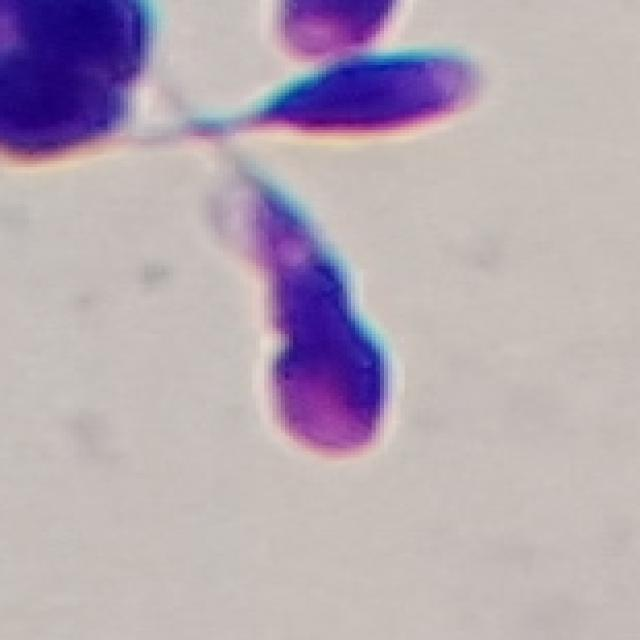abnormal sperm: (182, 102, 400, 459), (142, 49, 483, 148)
